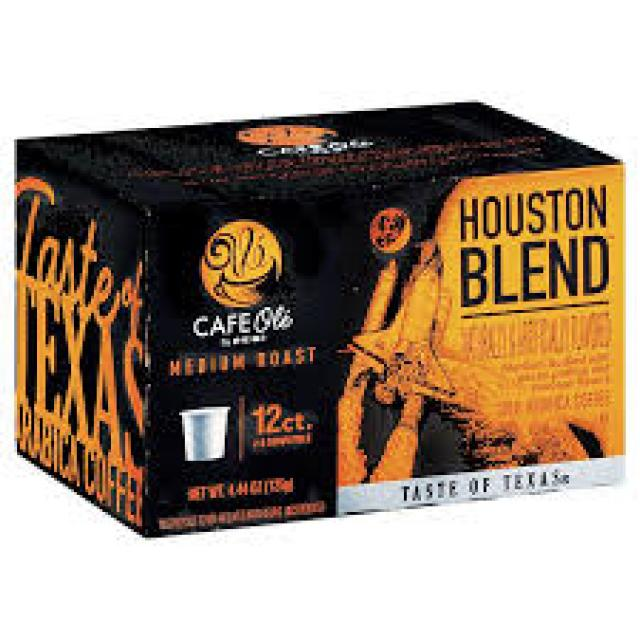Coffee: (14, 102, 626, 540)
